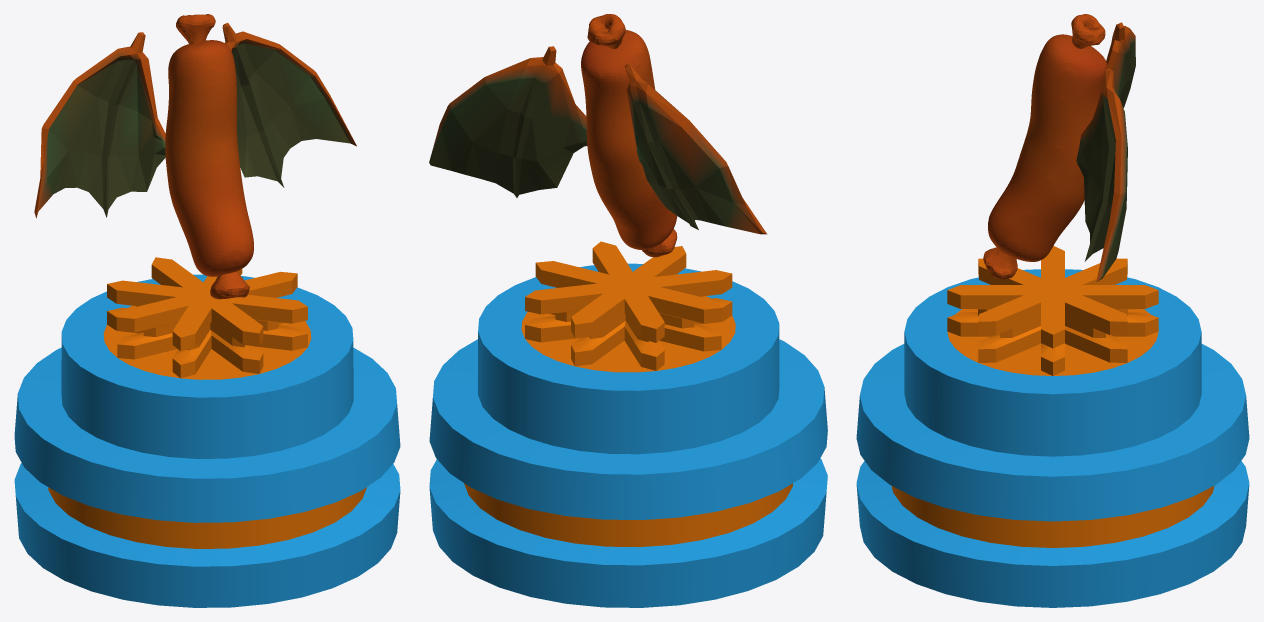
File: ESTRUCTURA_chorizard.fbx
3 renders of one model, left to right at view 1: azimuth 30°, elevation 25°; view 2: azimuth 150°, elevation 25°; view 3: azimuth 270°, elevation 25°, orthographic. The views are drawn at different scales.
Visible parts, largest first — view 1: BASE, Alas, Ariiba_Soporte, Centro_BASE; view 2: BASE, Alas, Ariiba_Soporte, Centro_BASE; view 3: BASE, Alas, Ariiba_Soporte, Centro_BASE.
Boxes of the visible parts, x1,y1,x2,y2 form: BASE: (14, 274, 400, 607); Alas: (34, 14, 356, 299); Ariiba_Soporte: (103, 257, 311, 379); Centro_BASE: (48, 487, 366, 548); BASE: (429, 263, 827, 607); Alas: (429, 14, 766, 257); Ariiba_Soporte: (521, 241, 735, 372); Centro_BASE: (464, 483, 792, 547); BASE: (856, 269, 1249, 607); Alas: (983, 14, 1135, 281); Ariiba_Soporte: (947, 246, 1158, 375); Centro_BASE: (891, 486, 1214, 547).
Size of the model in its own units: 638 by 905 by 631.
